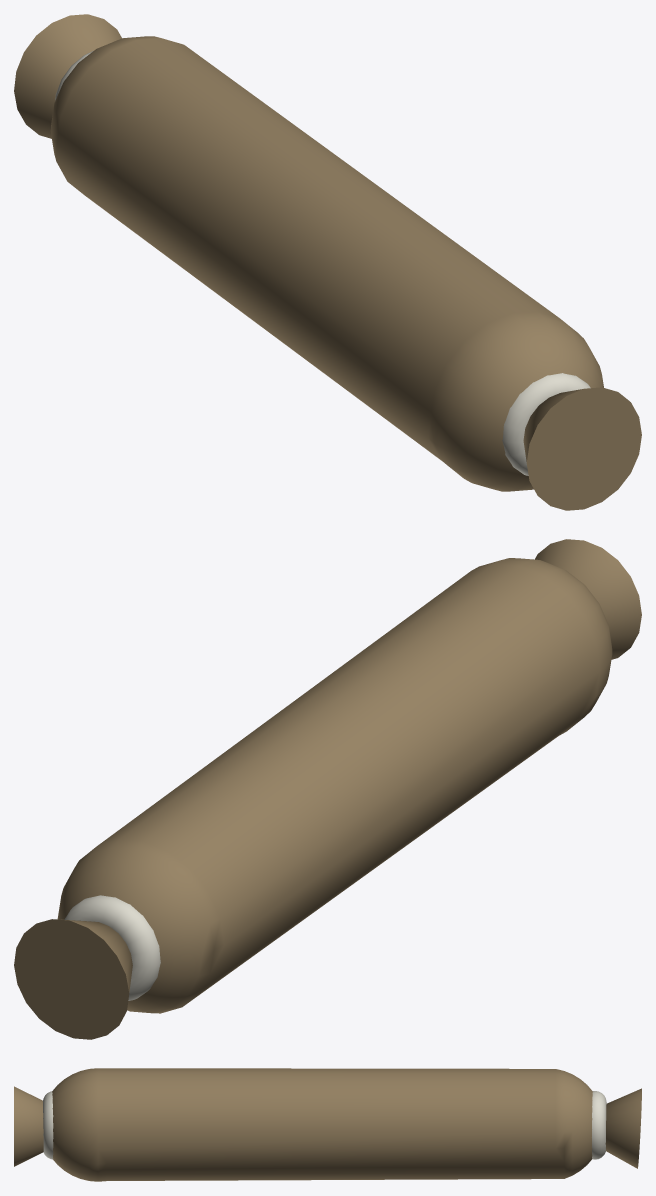
File: No.1 Sausage.fbx
3 views of the same model, one above another, from view 1: azimuth 30°, elevation 25°; view 2: azimuth 150°, elevation 25°; view 3: azimuth 270°, elevation 25° (orthographic). The views are drawn at different scales.
Visible parts, largest first — view 1: pCone3; view 2: pCone3; view 3: pCone3.
Part boxes in pixels (x1,y1,x2,y2): pCone3: (14, 14, 641, 510); pCone3: (14, 539, 641, 1039); pCone3: (14, 1068, 641, 1181).
Bounding box in the file's own units: 0.184 × 0.184 × 1.01.
